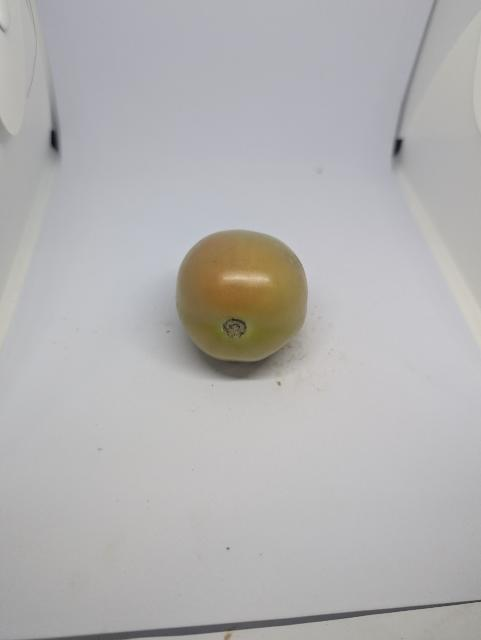breaker: (176, 230, 308, 362)
